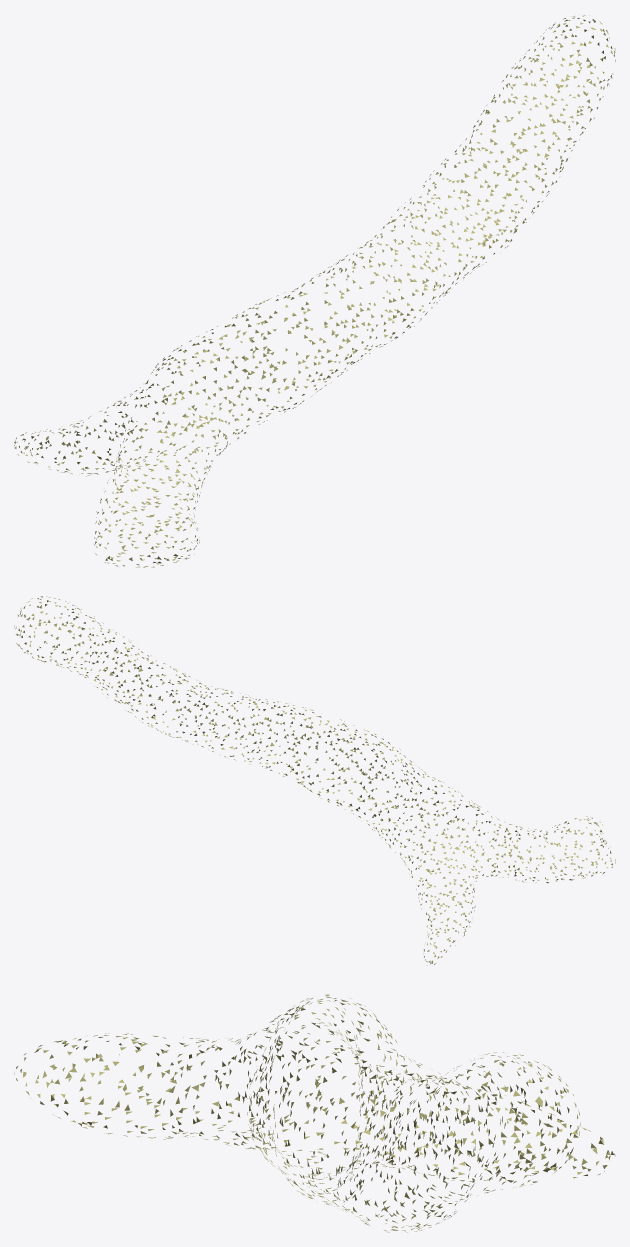
File: morph_009.glb
The picture shows the model from 3 angles, top to bottom: view 1: azimuth 30°, elevation 25°; view 2: azimuth 150°, elevation 25°; view 3: azimuth 270°, elevation 25°; orthographic projection. The views are drawn at different scales.
Bounding box in the file's own units: 118 × 58.33 × 62.93.
